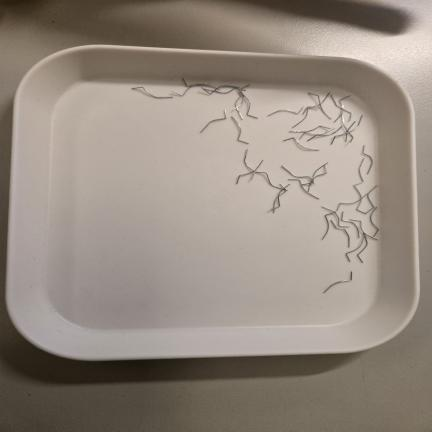probe: (200, 109, 227, 133), (324, 271, 352, 293), (283, 137, 319, 151), (231, 116, 249, 144), (132, 87, 173, 98), (267, 107, 303, 117), (361, 145, 373, 174)
